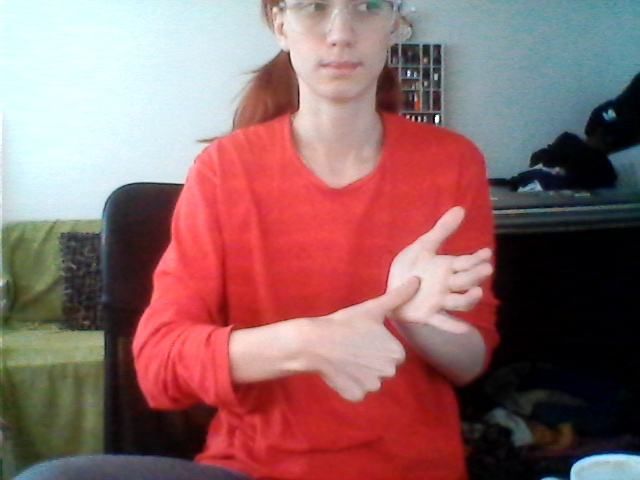pivo: (325, 194, 505, 410)
